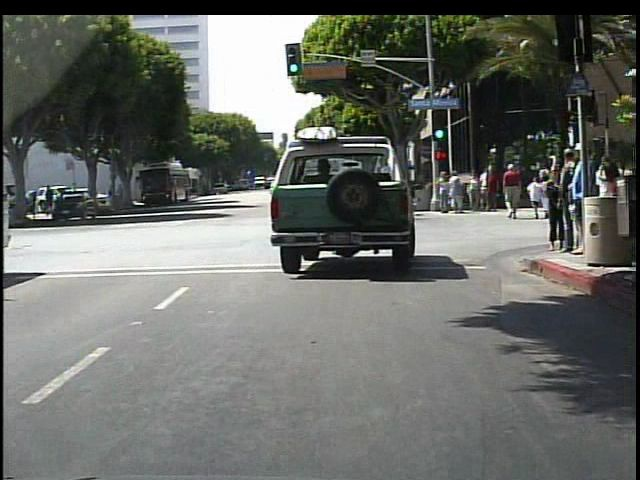person: (568, 143, 594, 263), (543, 162, 569, 252), (558, 149, 576, 257), (523, 169, 550, 225), (504, 164, 525, 223), (541, 168, 557, 219), (452, 169, 467, 217), (489, 168, 502, 213), (475, 170, 488, 212), (481, 166, 493, 211), (438, 170, 450, 214), (107, 184, 118, 208), (117, 184, 126, 210)
